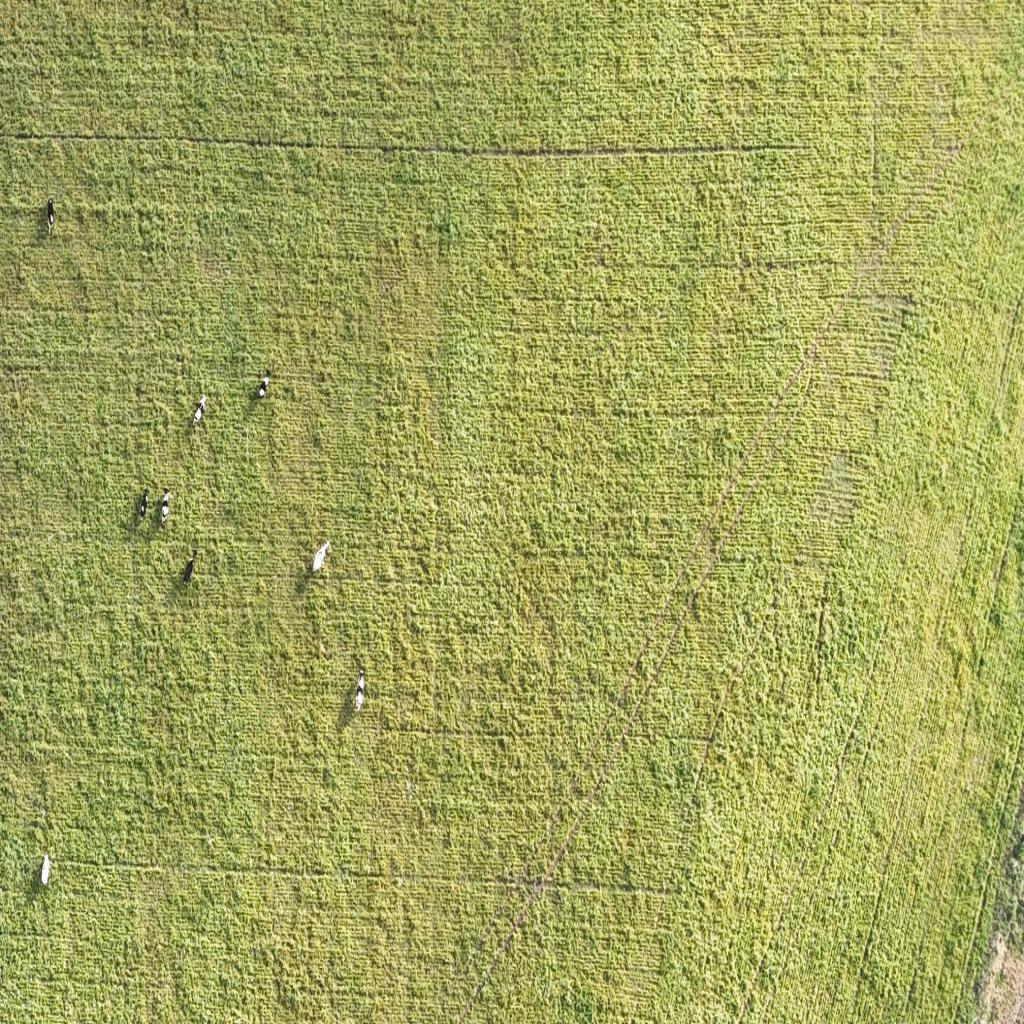cow: (312, 541, 330, 573), (183, 550, 198, 584), (355, 670, 365, 714), (194, 394, 206, 426), (161, 485, 171, 523), (139, 488, 149, 521), (258, 374, 270, 400), (48, 198, 56, 234)
